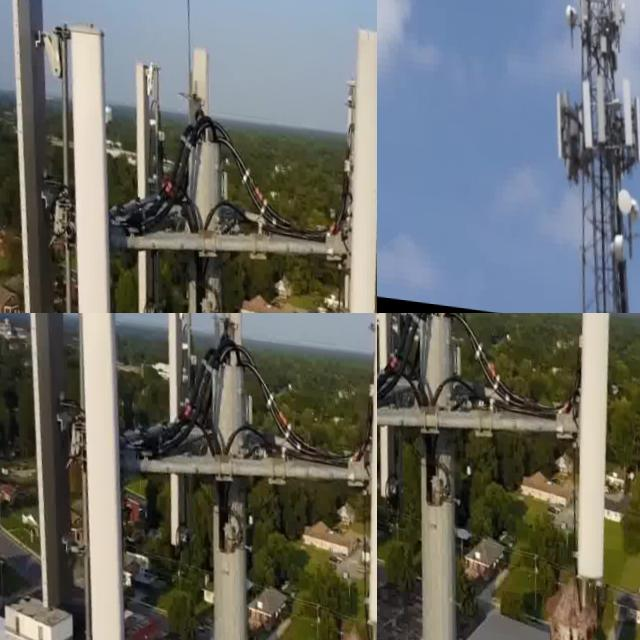GSM Antenna: (26, 14, 144, 313), (0, 0, 79, 313), (311, 5, 377, 313), (21, 313, 79, 623), (137, 313, 210, 554), (67, 313, 118, 640), (111, 43, 172, 313), (570, 313, 612, 582), (377, 313, 414, 516), (177, 40, 216, 215), (361, 313, 377, 635), (540, 72, 573, 178), (606, 64, 637, 173), (580, 51, 610, 156), (567, 63, 596, 162), (617, 71, 640, 171), (216, 313, 249, 352)
Microwave Antenna: (598, 226, 622, 263), (608, 181, 627, 212), (556, 0, 576, 26), (620, 192, 638, 218), (611, 0, 626, 23)
